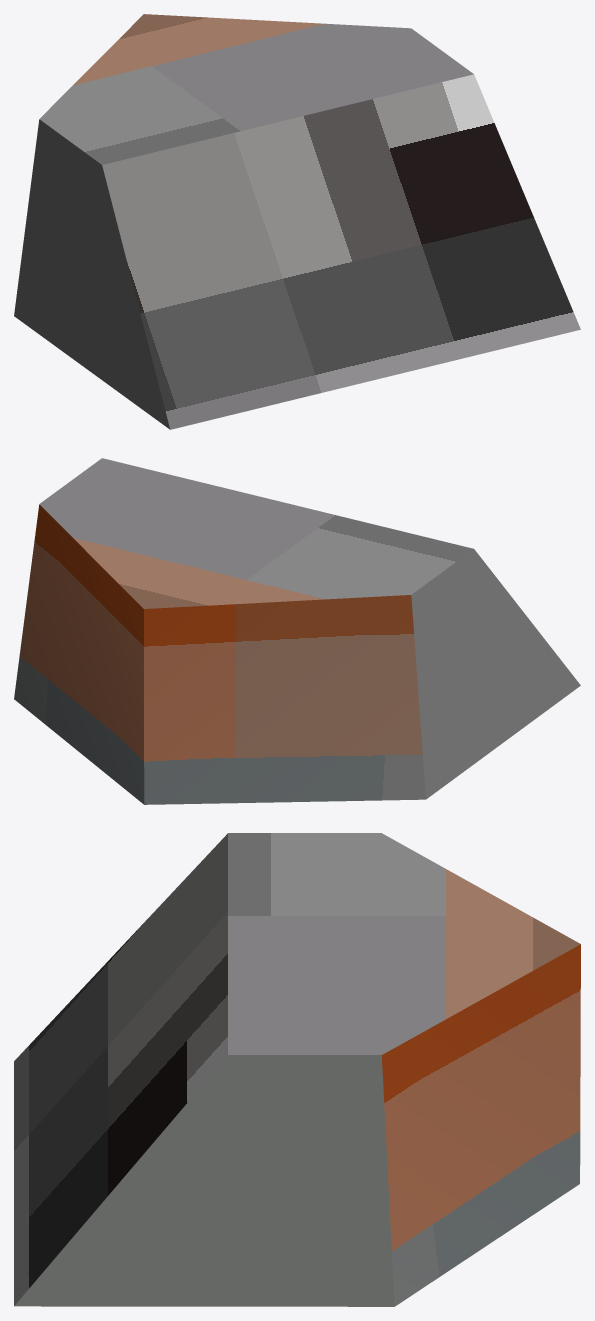
The model's file is LOD2-UVFlip.obj.
3 renders of one model, top to bottom at view 1: azimuth 30°, elevation 25°; view 2: azimuth 150°, elevation 25°; view 3: azimuth 270°, elevation 25°, orthographic. The views are drawn at different scales.
Visible parts, largest first — view 1: FrontUVLOD2; view 2: FrontUVLOD2; view 3: FrontUVLOD2.
Part boxes in pixels (box(x1,y1,x2,y2)): FrontUVLOD2: box(14, 14, 580, 429); FrontUVLOD2: box(14, 458, 580, 804); FrontUVLOD2: box(14, 833, 580, 1306).
Size of the model in its own units: 5 by 2.27 by 4.87.
